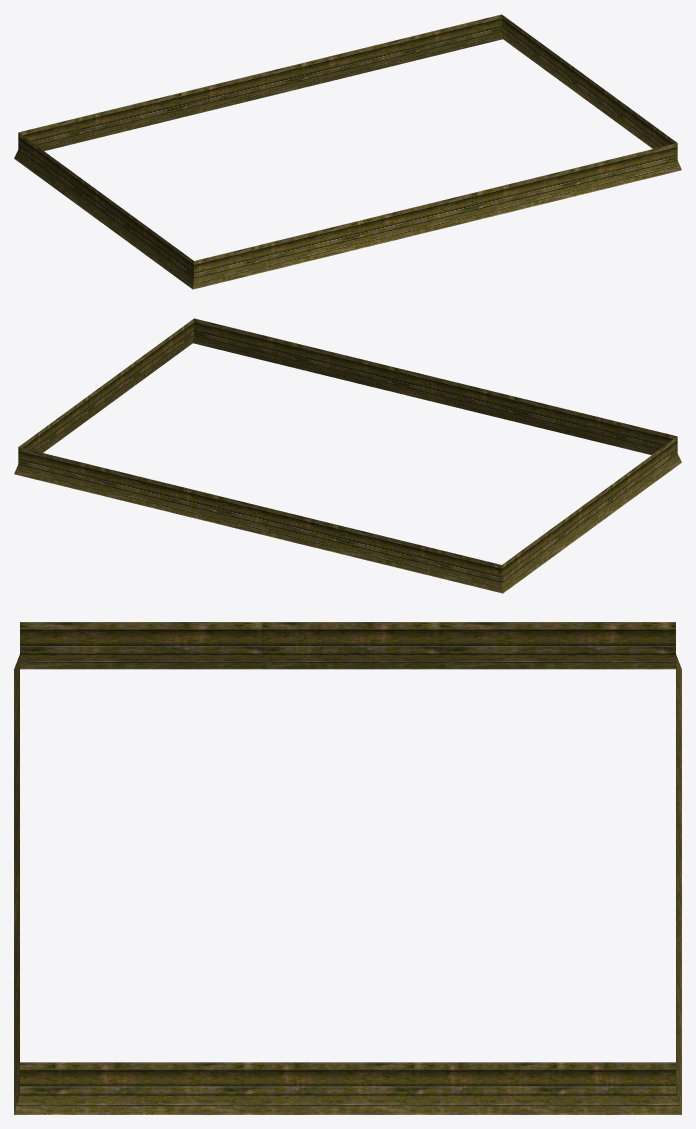
File: OVERHILL_A_01_OBJECT336.fbx
3 views of the same model, one above another, from view 1: azimuth 30°, elevation 25°; view 2: azimuth 150°, elevation 25°; view 3: azimuth 270°, elevation 25° (orthographic). The views are drawn at different scales.
Parts seen in each view (by area): view 1: OVERHILL_A_01_OBJECT336; view 2: OVERHILL_A_01_OBJECT336; view 3: OVERHILL_A_01_OBJECT336.
Part boxes in pixels (x1,y1,x2,y2): OVERHILL_A_01_OBJECT336: (14,14,681,289); OVERHILL_A_01_OBJECT336: (14,318,681,593); OVERHILL_A_01_OBJECT336: (14,622,681,1114).
Bounding box in the file's own units: 236624 × 12361 × 149972.
Materials: 2 (2 with a texture image).
